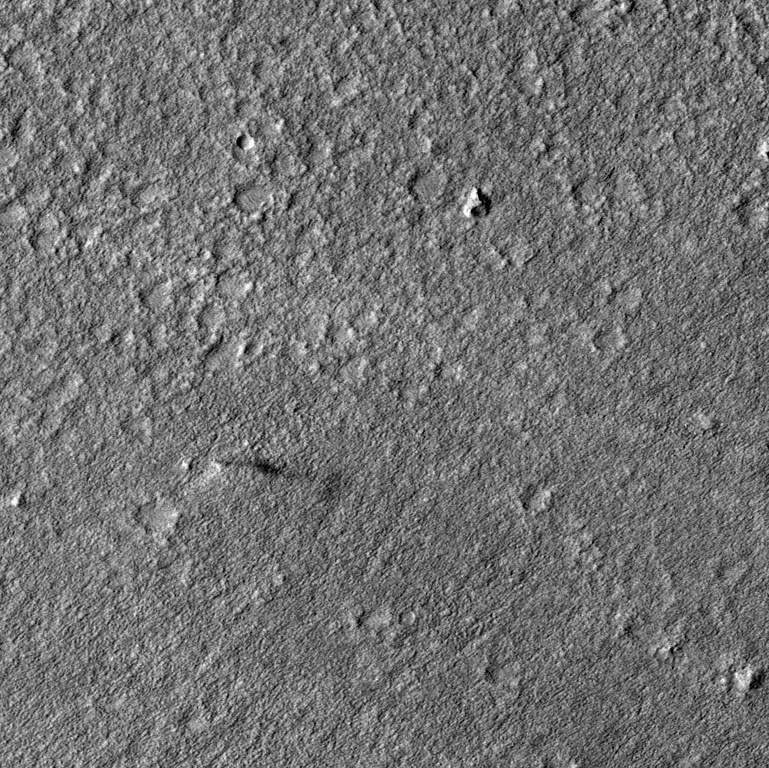dust_devil: (207, 456, 289, 483)
